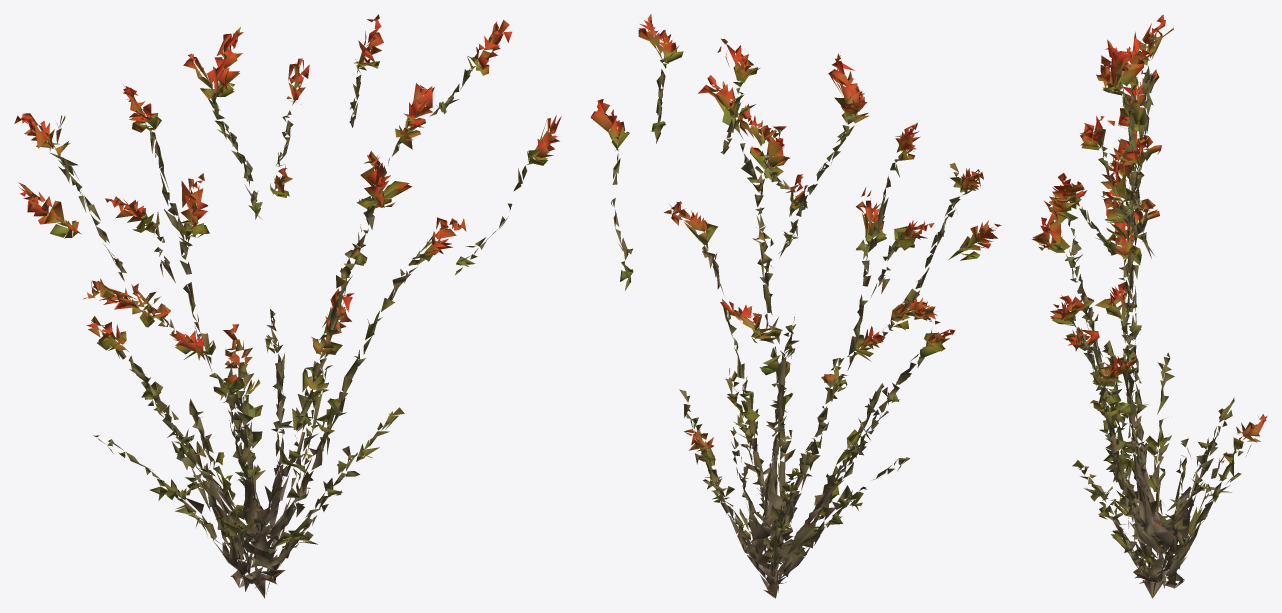
The model's file is ocotillo.glb.
3 views of the same model, side by side, from view 1: azimuth 30°, elevation 25°; view 2: azimuth 150°, elevation 25°; view 3: azimuth 270°, elevation 25° (orthographic). The views are drawn at different scales.
Visible parts, largest first — view 1: LO.001; view 2: LO.001; view 3: LO.001.
Part boxes in pixels (box(x1,y1,x2,y2)): LO.001: box(14, 14, 561, 598); LO.001: box(590, 14, 1001, 598); LO.001: box(1032, 14, 1267, 598).
Bounding box in the file's own units: 0.8422 × 0.9727 × 0.3871.
Materials: 1 (1 with a texture image).
